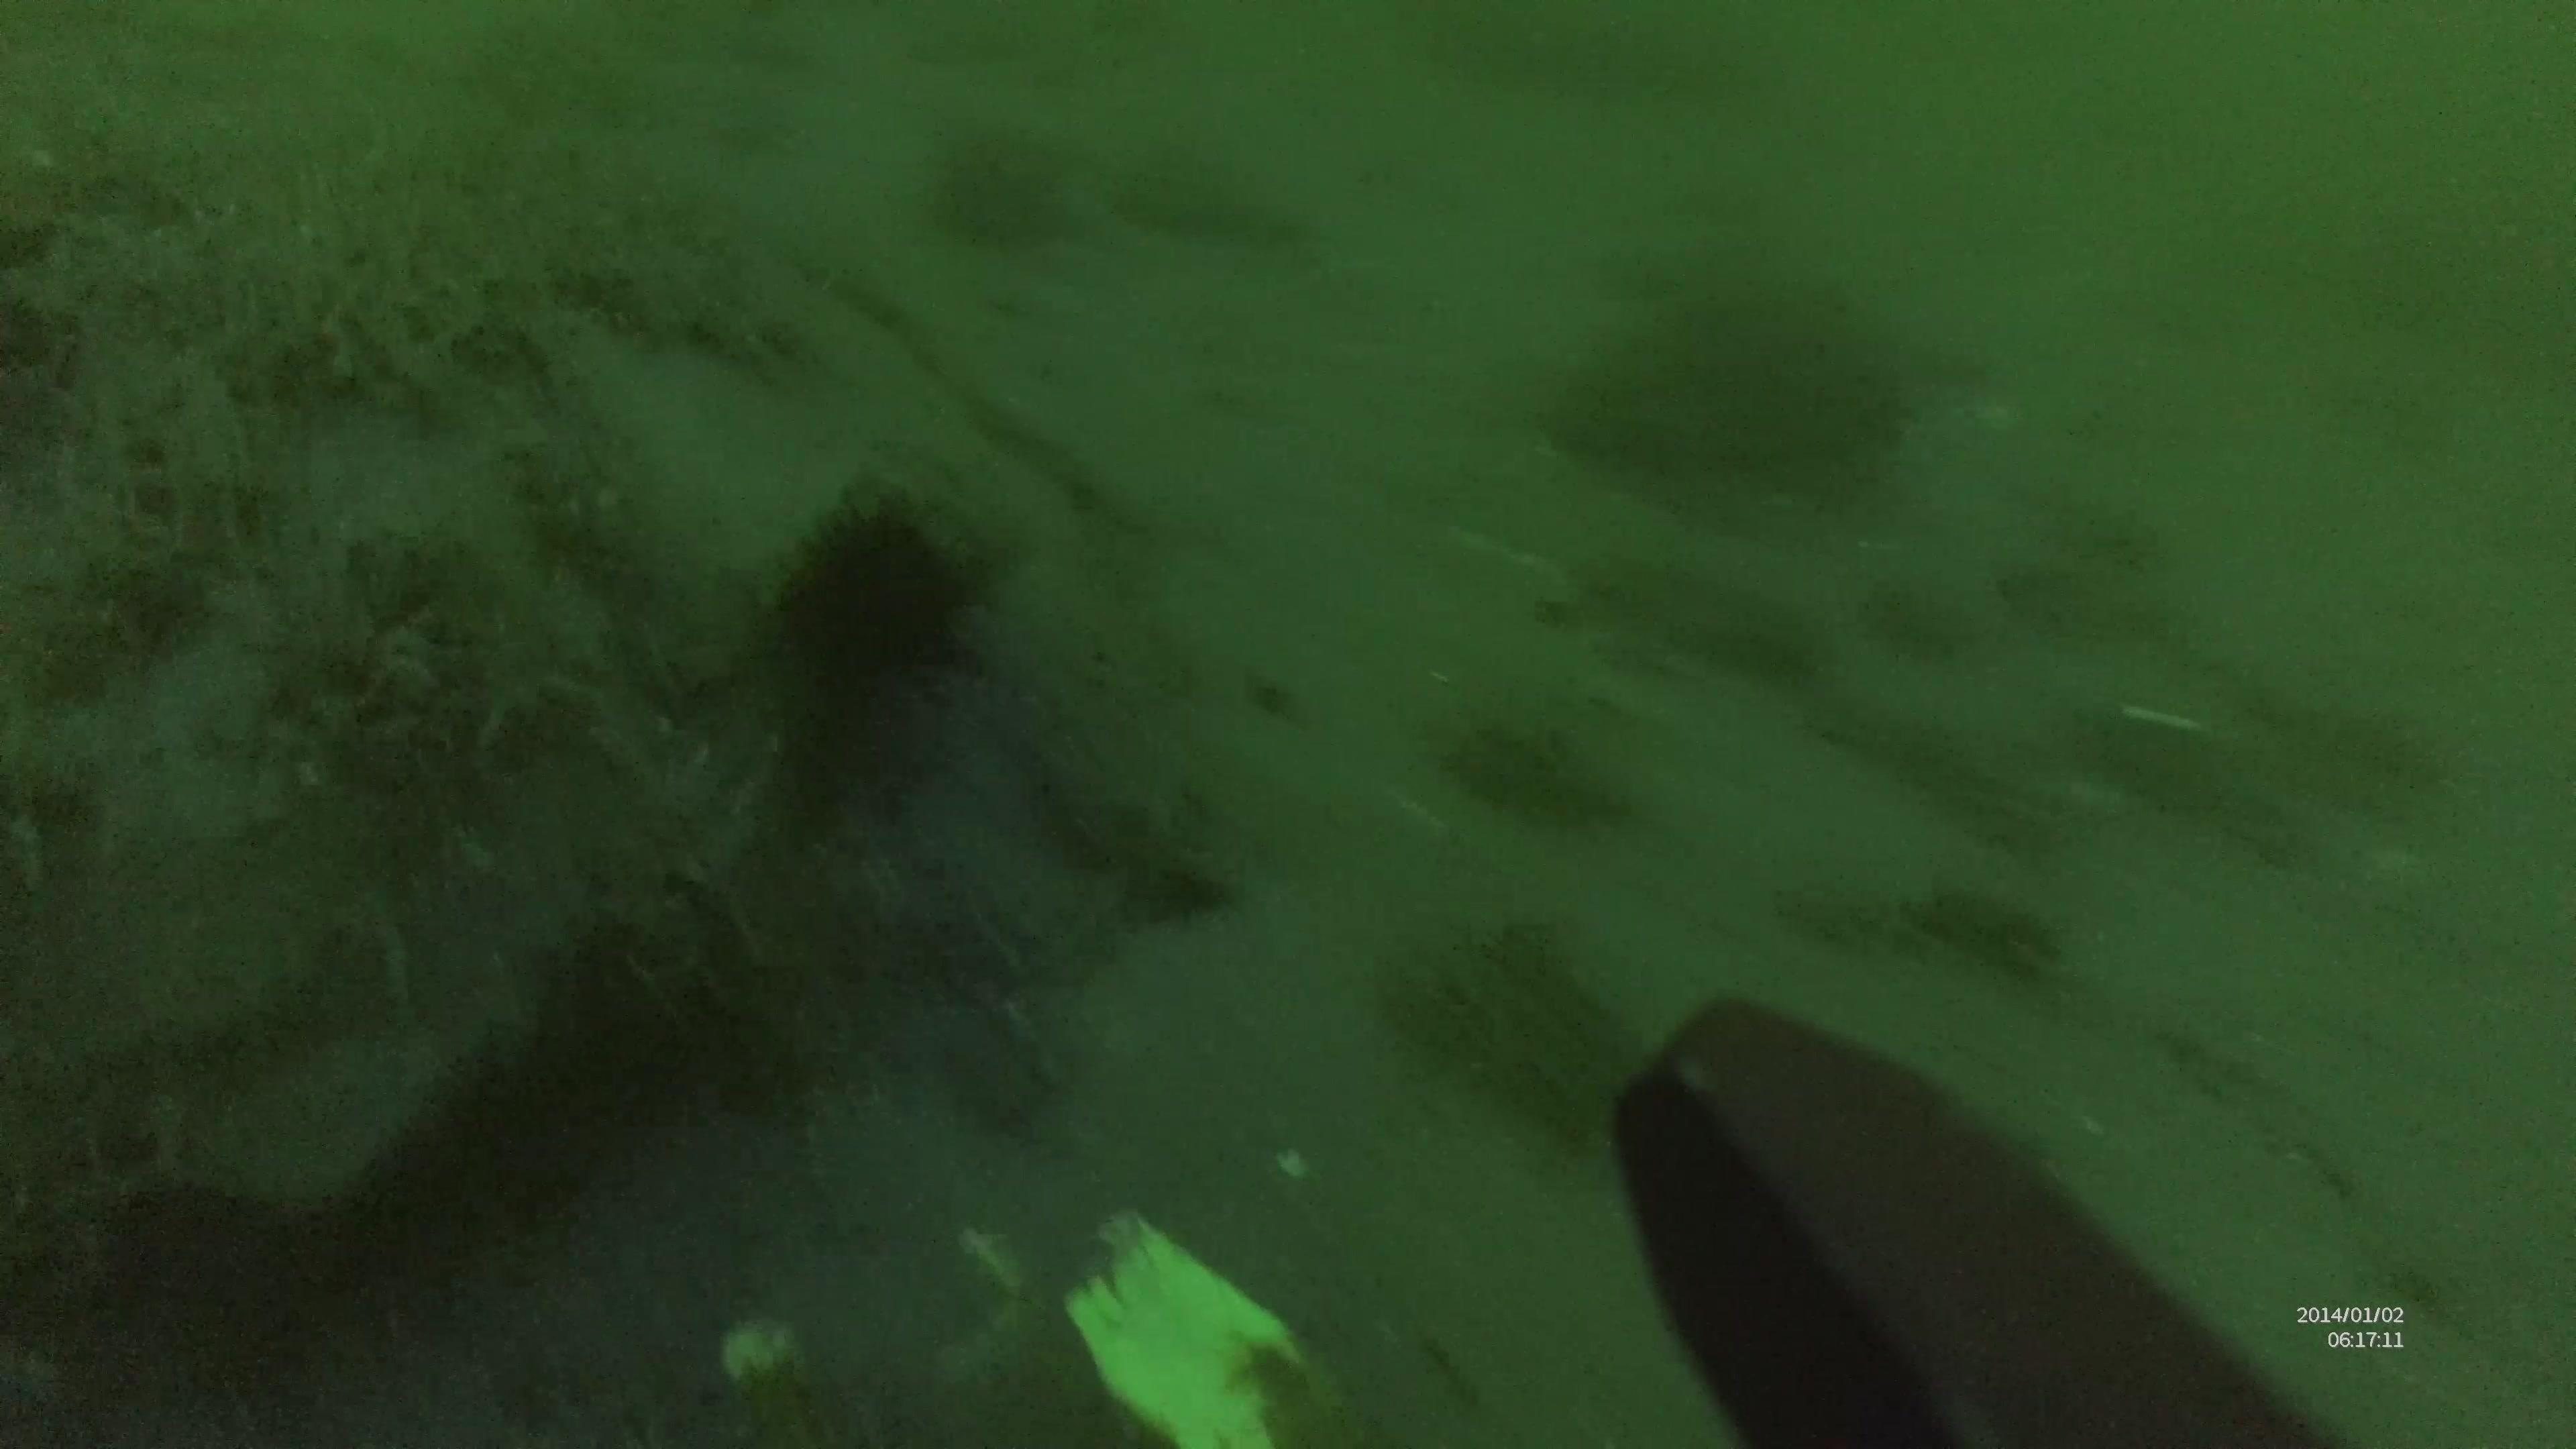echinus: (777, 490, 977, 699)
